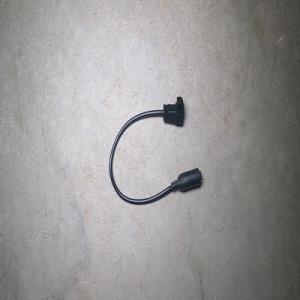Wire: (109, 96, 202, 205)
